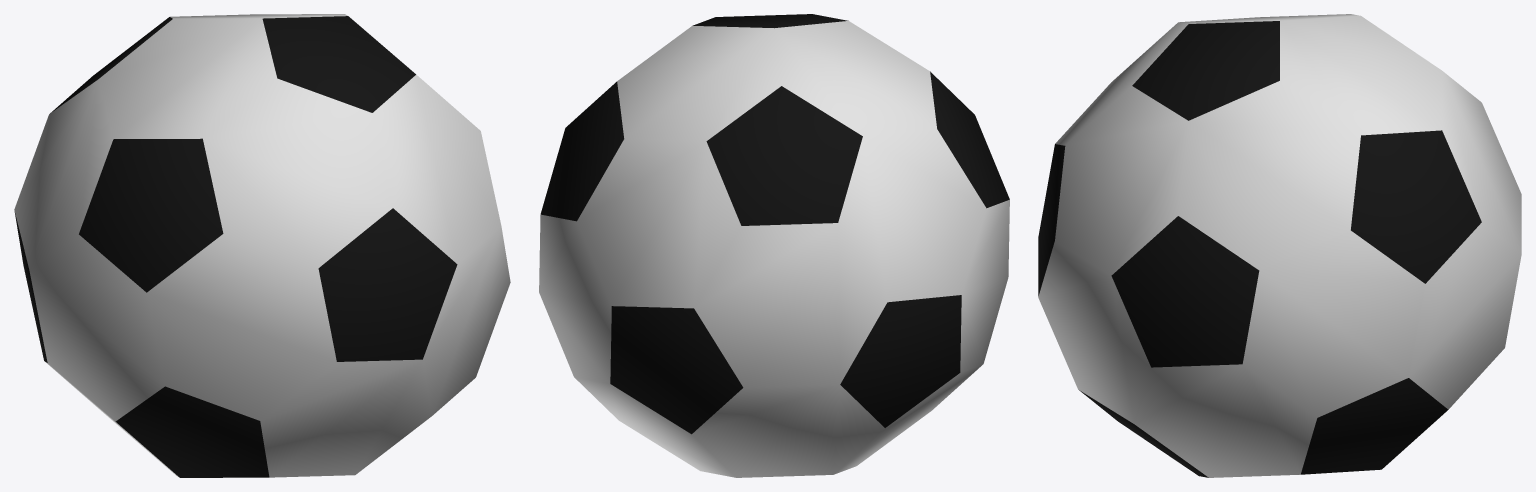
The model's file is ball.fbx.
3 views of the same model, side by side, from view 1: azimuth 30°, elevation 25°; view 2: azimuth 150°, elevation 25°; view 3: azimuth 270°, elevation 25° (orthographic). The views are drawn at different scales.
Parts seen in each view (by area): view 1: ball; view 2: ball; view 3: ball.
Boxes of the visible parts, x1,y1,x2,y2 form: ball: [14, 14, 510, 477]; ball: [539, 14, 1009, 477]; ball: [1038, 14, 1521, 477].
Size of the model in its own units: 48.58 by 49.25 by 47.93.
Materials: 1 (1 with a texture image).
